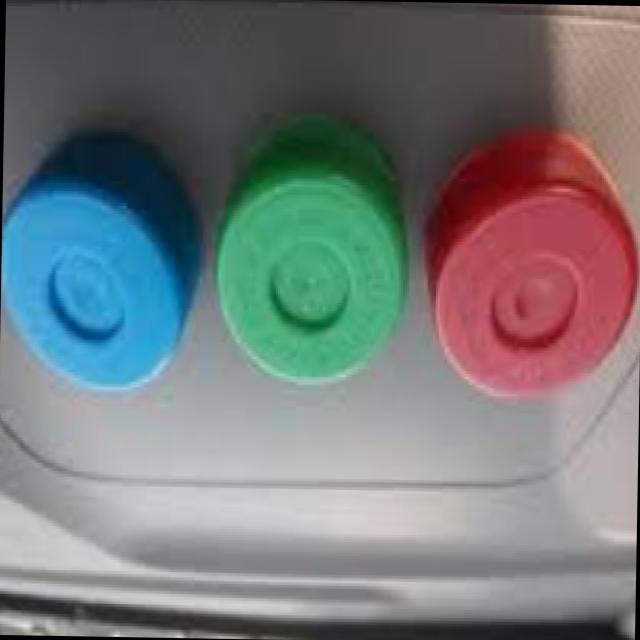TutupGalon: (424, 112, 636, 402), (218, 126, 408, 392), (0, 145, 192, 387)
